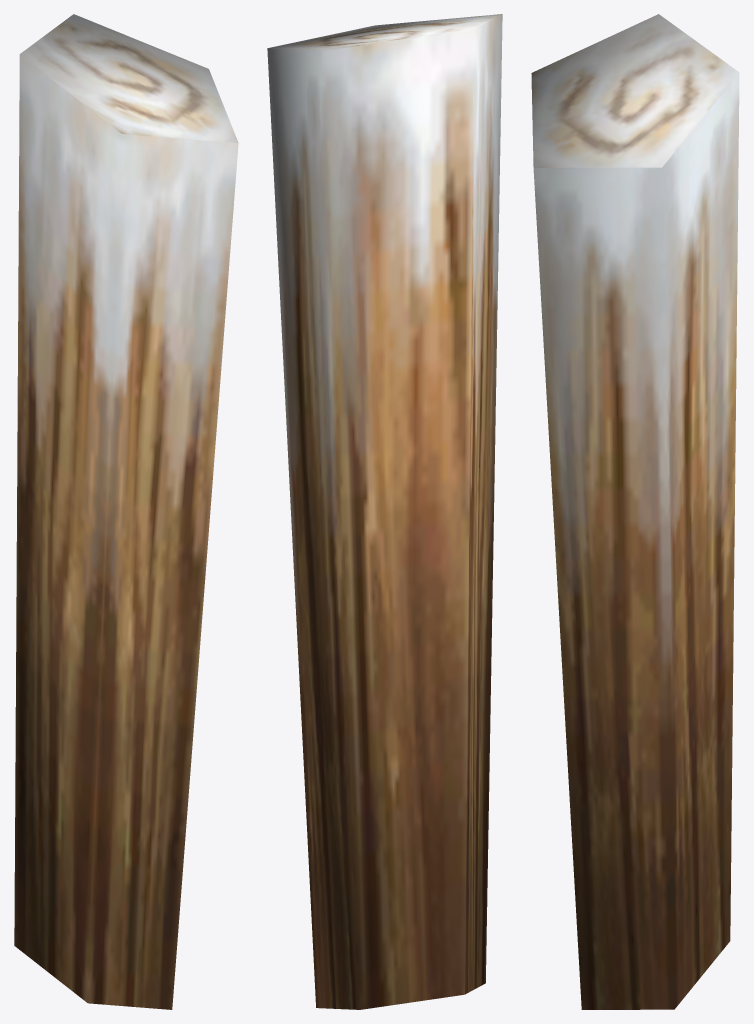
File: SM_Enclosure_05.fbx
3 views of the same model, side by side, from view 1: azimuth 30°, elevation 25°; view 2: azimuth 150°, elevation 25°; view 3: azimuth 270°, elevation 25° (orthographic). The views are drawn at different scales.
Visible parts, largest first — view 1: SM_Enclosure_05; view 2: SM_Enclosure_05; view 3: SM_Enclosure_05.
Boxes of the visible parts, box(x1,y1,x2,y2) form: SM_Enclosure_05: box(14, 14, 238, 1009); SM_Enclosure_05: box(267, 14, 502, 1009); SM_Enclosure_05: box(531, 14, 739, 1009).
Size of the model in its own units: 0.7964 by 3.81 by 0.7624.
